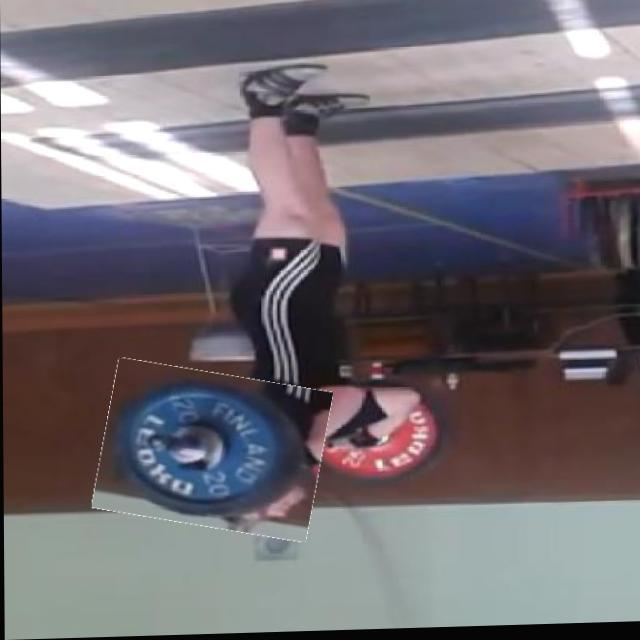barbell: (97, 364, 328, 540)
